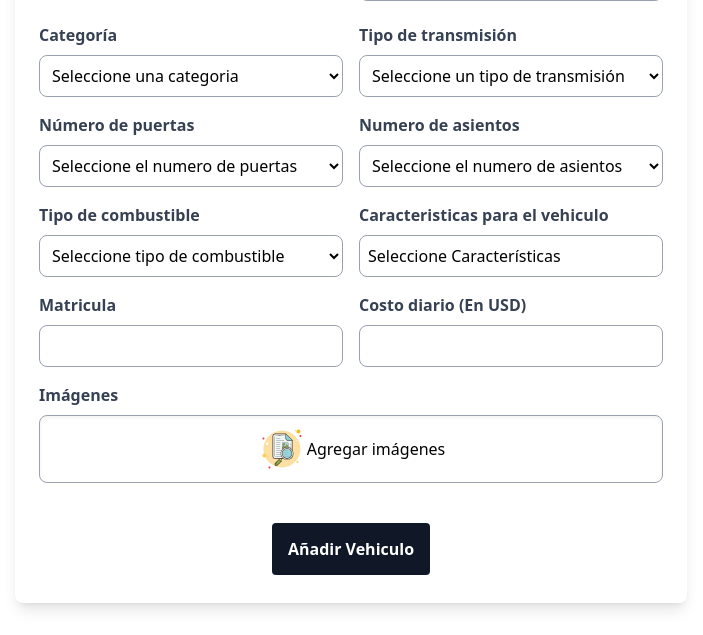
Test: Debe mostrar el mensaje de error si 'fuelType' no se ingresa en el form
The width and height of the screenshot is (703, 635).
(page scrolled)
Click the button "Añadir Vehiculo": [351, 549] box [272,523,430,575]
(page scrolled)
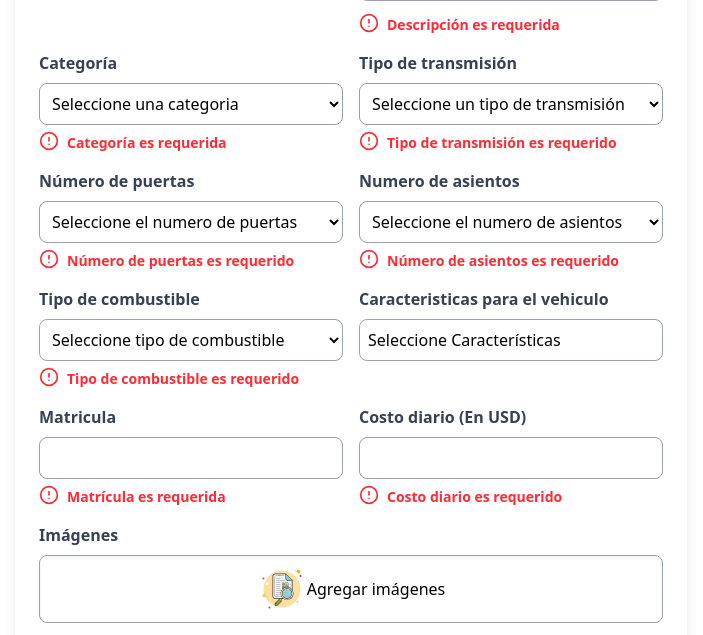
Expected: the text "Tipo de combustible es requerido" is shown, [67,369,299,389]
